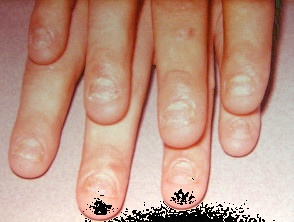Nail_psoriasis: (148, 79, 213, 146), (71, 157, 133, 216), (214, 58, 273, 117), (158, 148, 212, 202), (4, 121, 58, 174), (85, 58, 129, 109), (218, 107, 262, 151), (22, 20, 62, 59)
